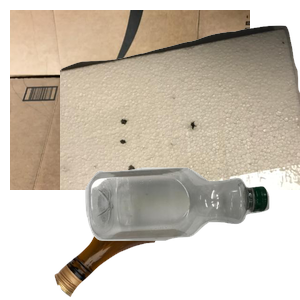cardboard: (10, 10, 250, 190)
glass: (52, 147, 292, 300)
plastic: (83, 165, 300, 300)
trash: (60, 23, 300, 203)
